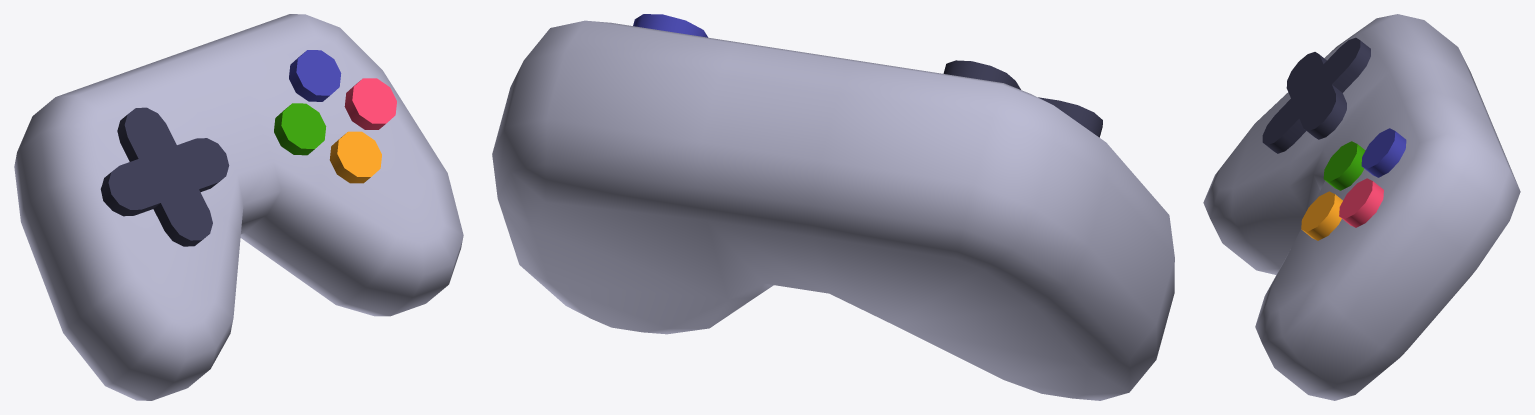
Rendered from Gamepad.fbx.
3 renders of one model, left to right at view 1: azimuth 30°, elevation 25°; view 2: azimuth 150°, elevation 25°; view 3: azimuth 270°, elevation 25°, orthographic. The views are drawn at different scales.
Visible parts, largest first — view 1: Model; view 2: Model; view 3: Model.
Boxes of the visible parts, x1,y1,x2,y2 form: Model: [14, 14, 463, 400]; Model: [492, 14, 1174, 400]; Model: [1203, 14, 1520, 400].
Size of the model in its own units: 0.6339 by 0.3939 by 0.456.
